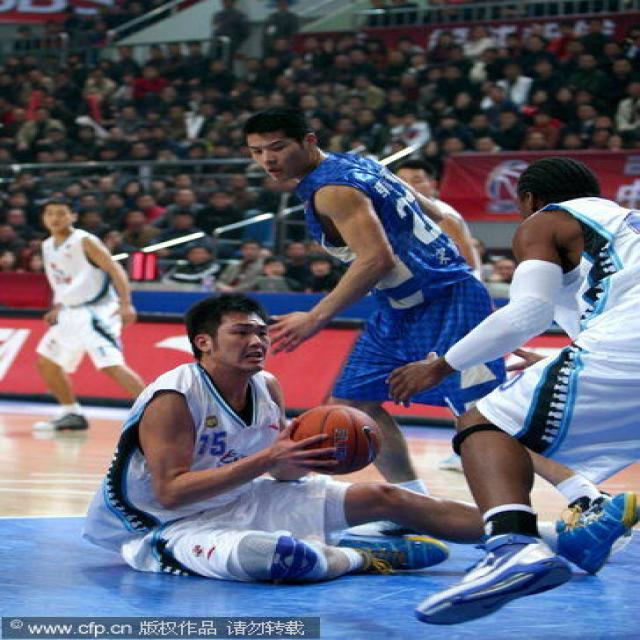10-: (9, 6, 638, 612)
down: (84, 291, 633, 577)
